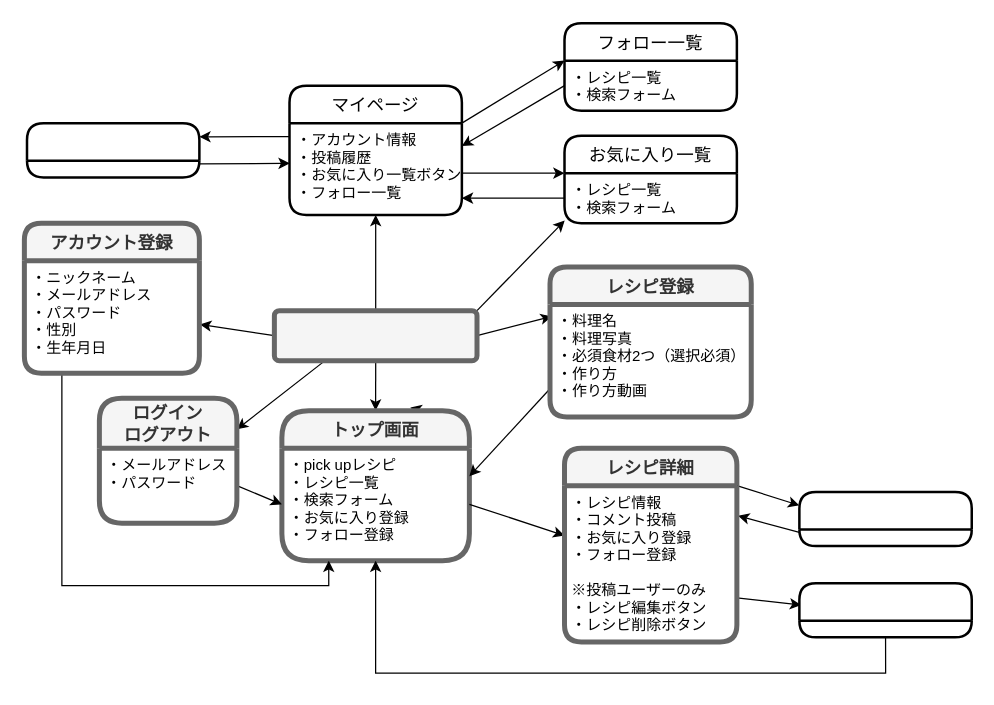
Image size: 994x705. Some labels were removed from this diagram. Each missing label, with the centre of its shape:
アカウント編集: the point at 112,149
ヘッダー: the point at 375,335
レシピ削除: the point at 885,609
レシピ編集: the point at 885,518
